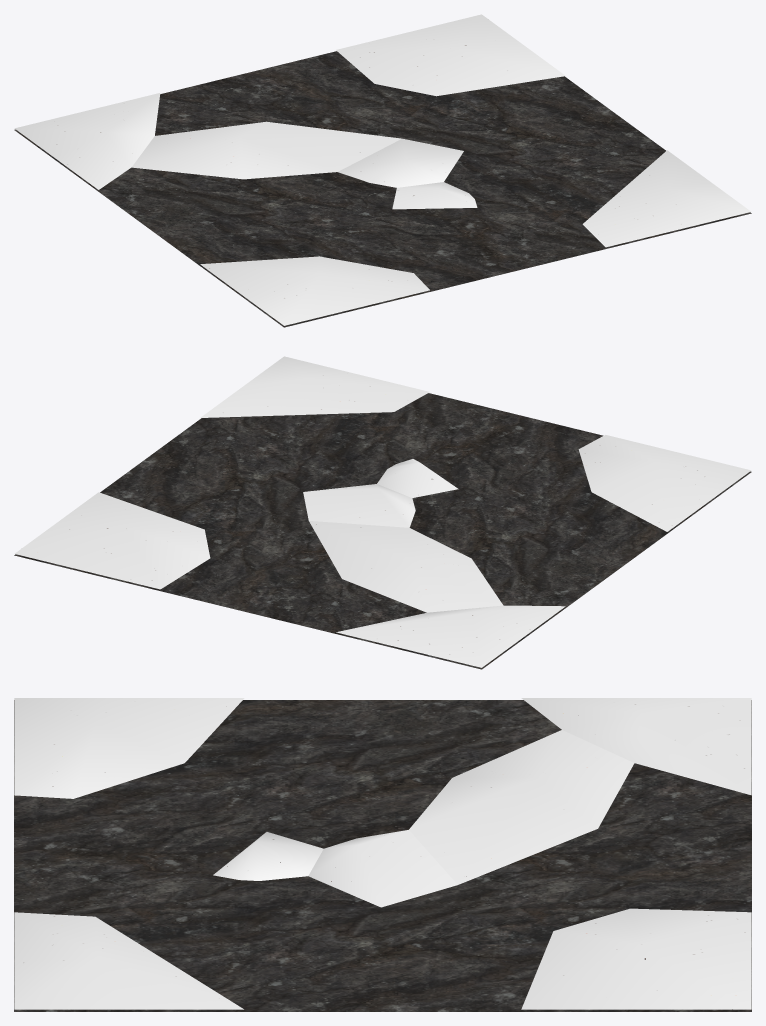
File: Garden_06_Art.glb
3 views of the same model, one above another, from view 1: azimuth 30°, elevation 25°; view 2: azimuth 150°, elevation 25°; view 3: azimuth 270°, elevation 25° (orthographic). The views are drawn at different scales.
Parts seen in each view (by area): view 1: Garden_06_Art; view 2: Garden_06_Art; view 3: Garden_06_Art.
Part boxes in pixels (x1,y1,x2,y2): Garden_06_Art: (14, 14, 751, 327); Garden_06_Art: (14, 356, 751, 669); Garden_06_Art: (14, 698, 751, 1011).
Size of the model in its own units: 15.98 by 0.5007 by 15.98.
2 materials, 2 textured.
